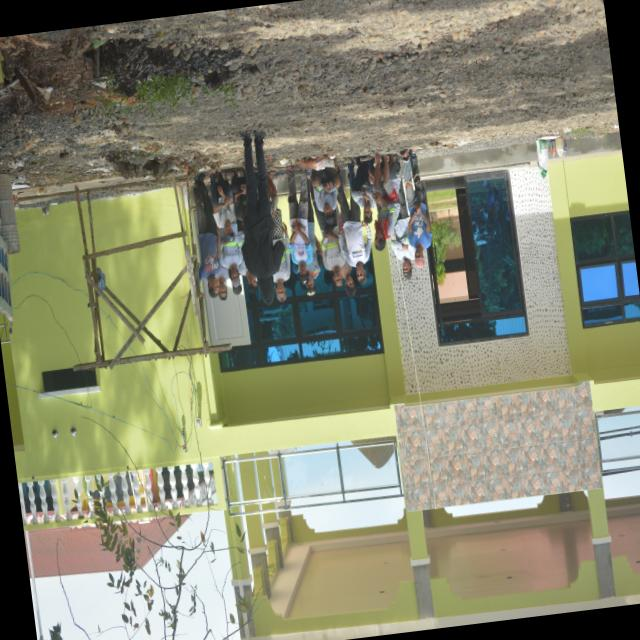person: (240, 130, 283, 303), (309, 181, 344, 287), (192, 173, 220, 297), (402, 148, 431, 267), (337, 185, 371, 283), (267, 172, 290, 301), (287, 172, 311, 283), (372, 154, 399, 249), (391, 182, 413, 279), (347, 157, 374, 223), (209, 171, 234, 240), (311, 167, 340, 225), (306, 195, 322, 294), (219, 220, 241, 286), (230, 170, 245, 219), (237, 259, 257, 292), (215, 263, 228, 299)
